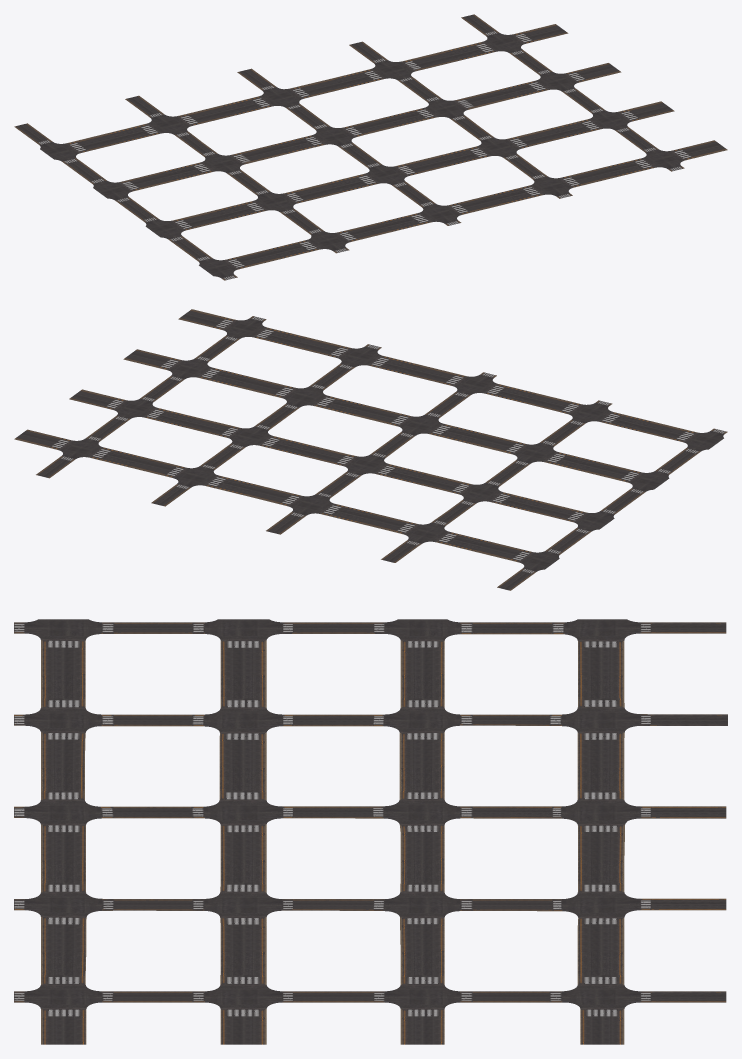
The model's file is callesFix.FBX.
3 views of the same model, one above another, from view 1: azimuth 30°, elevation 25°; view 2: azimuth 150°, elevation 25°; view 3: azimuth 270°, elevation 25° (orthographic). The views are drawn at different scales.
Visible parts, largest first — view 1: Rectangle003; view 2: Rectangle003; view 3: Rectangle003.
Part boxes in pixels (x1,y1,x2,y2): Rectangle003: [14, 14, 727, 280]; Rectangle003: [14, 309, 727, 590]; Rectangle003: [14, 619, 727, 1044].
Bounding box in the file's own units: 21033 × 9.13e-13 × 14917.
